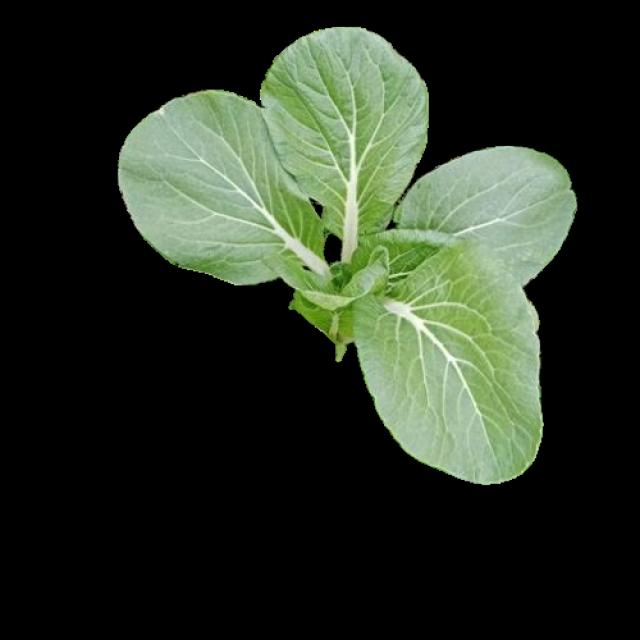healthy: (118, 27, 573, 480)
mature: (120, 30, 576, 482)
